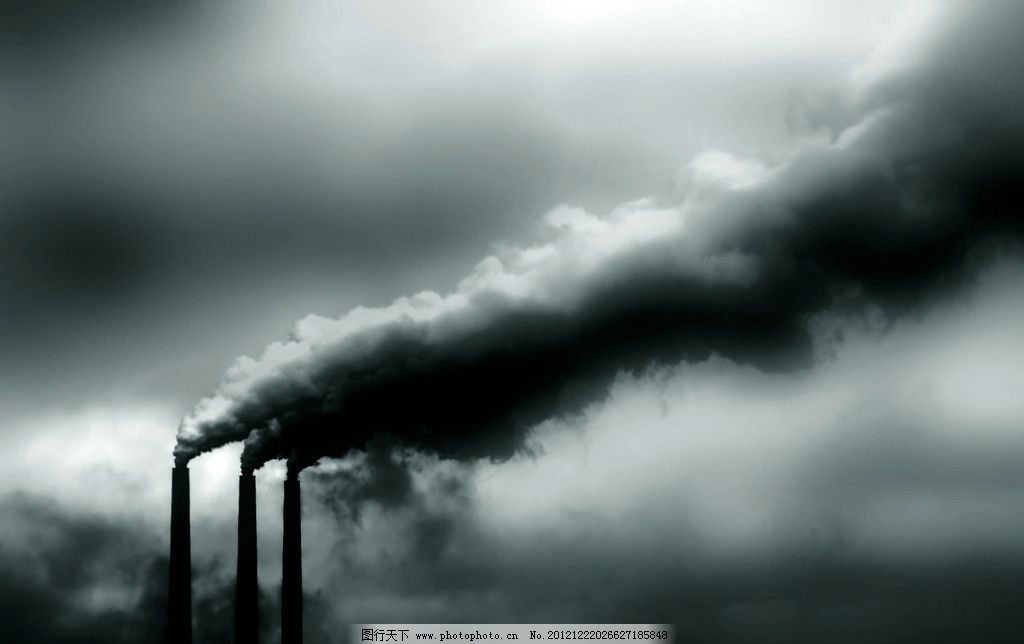dust: (152, 275, 605, 487)
